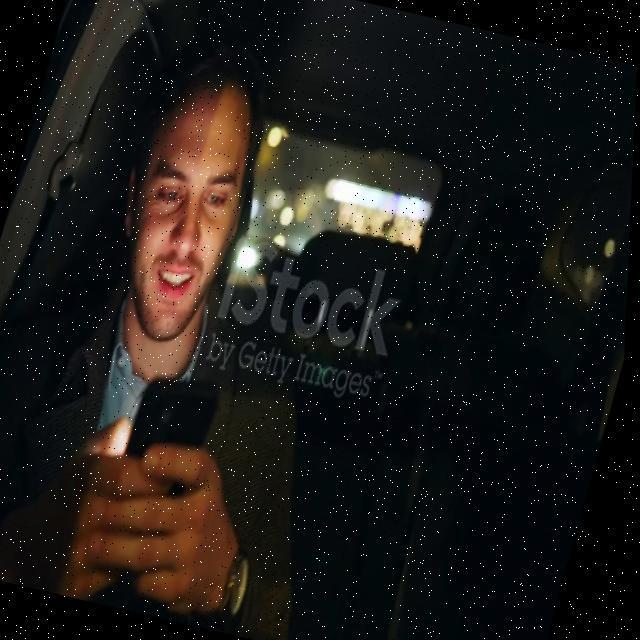PhoneCall: (98, 367, 224, 575)
